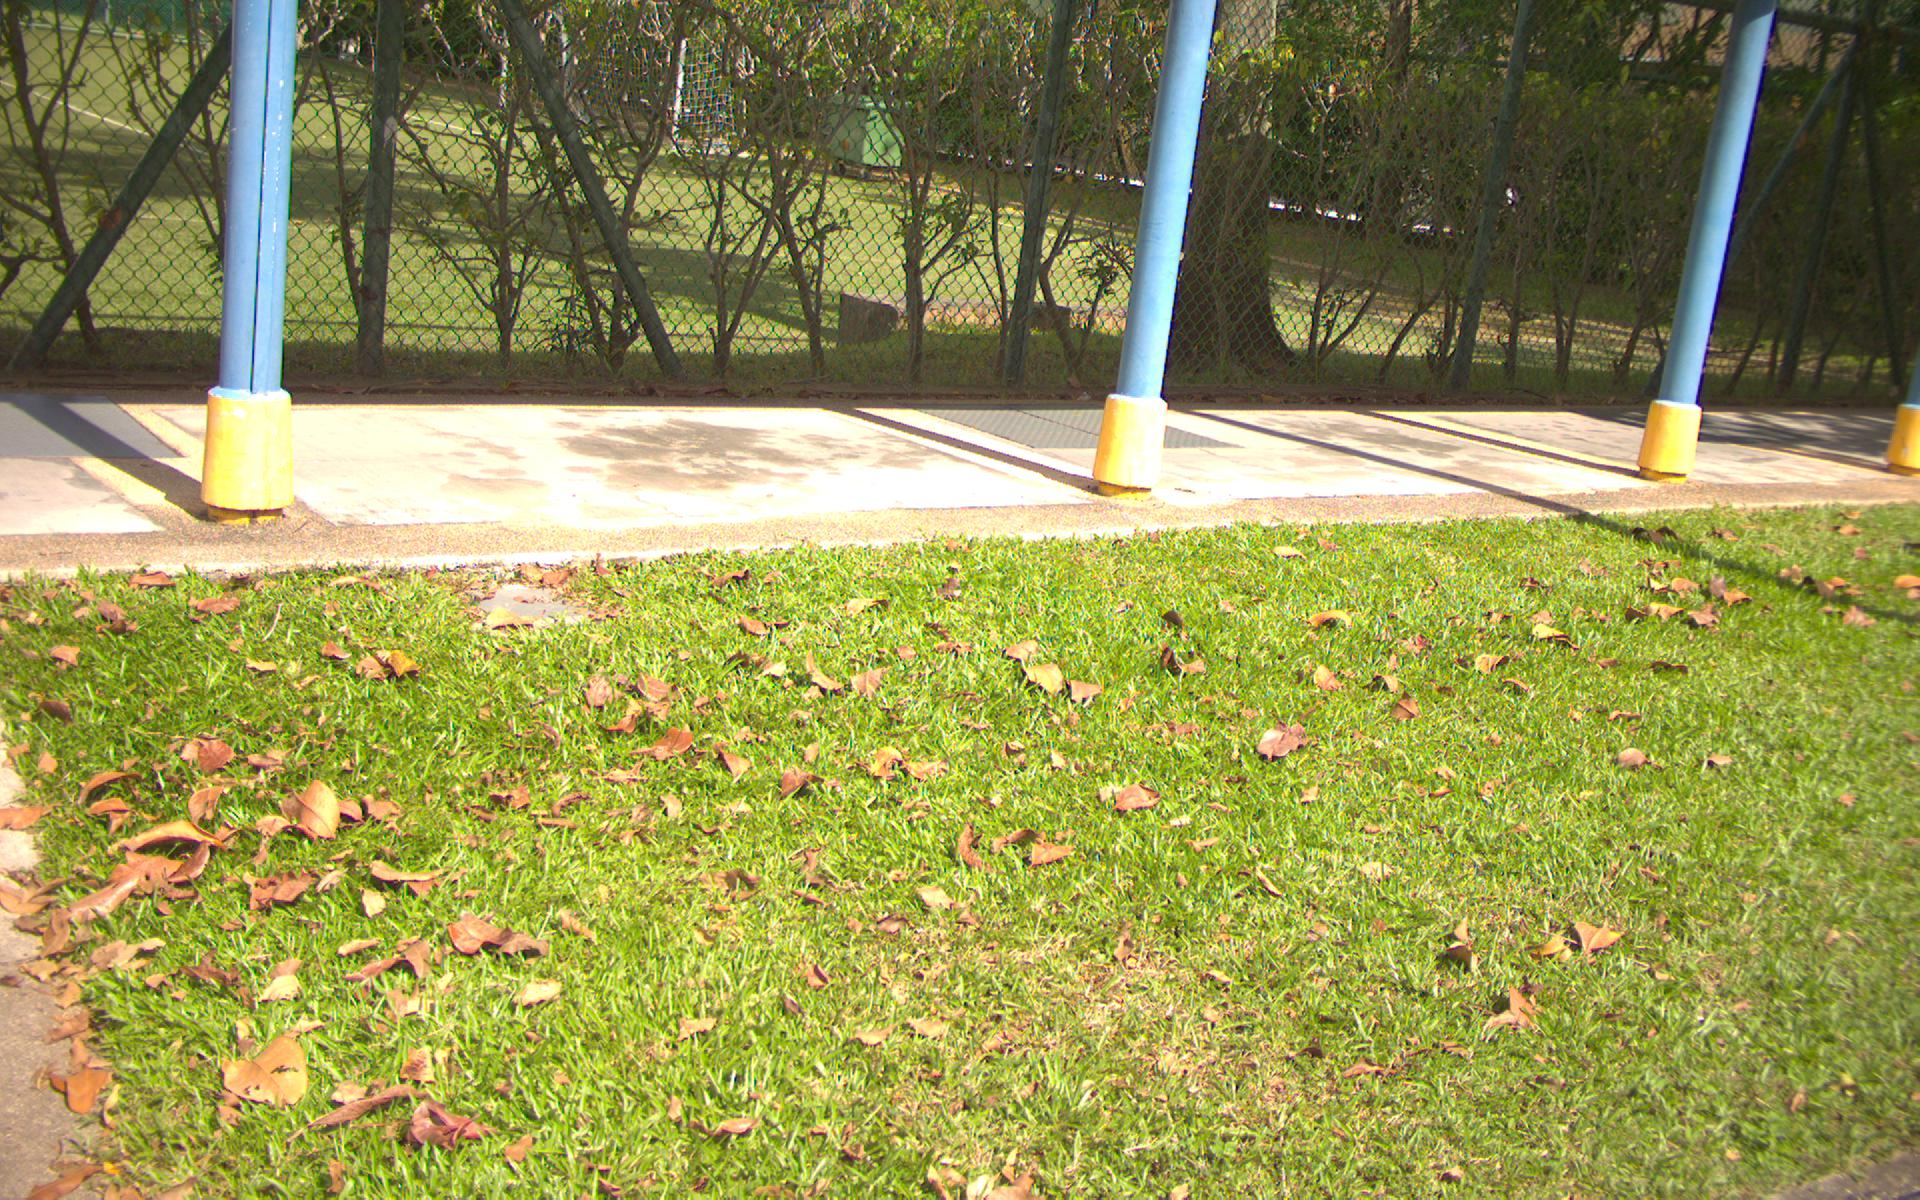pathway_low: (28, 382, 1901, 478)
road_turf_low: (250, 572, 1920, 1175)
